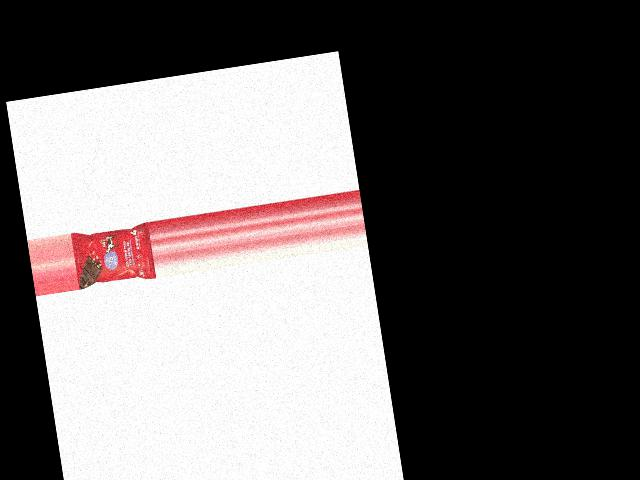chocolate: (71, 223, 157, 290)
